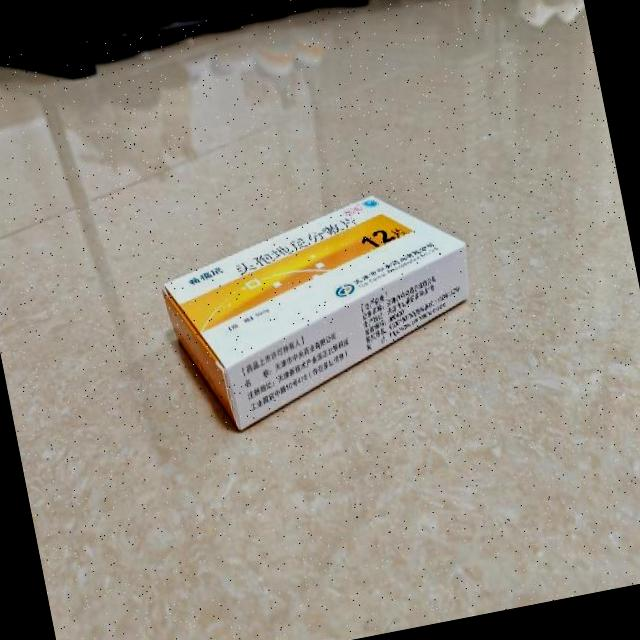box: (155, 178, 493, 440)
